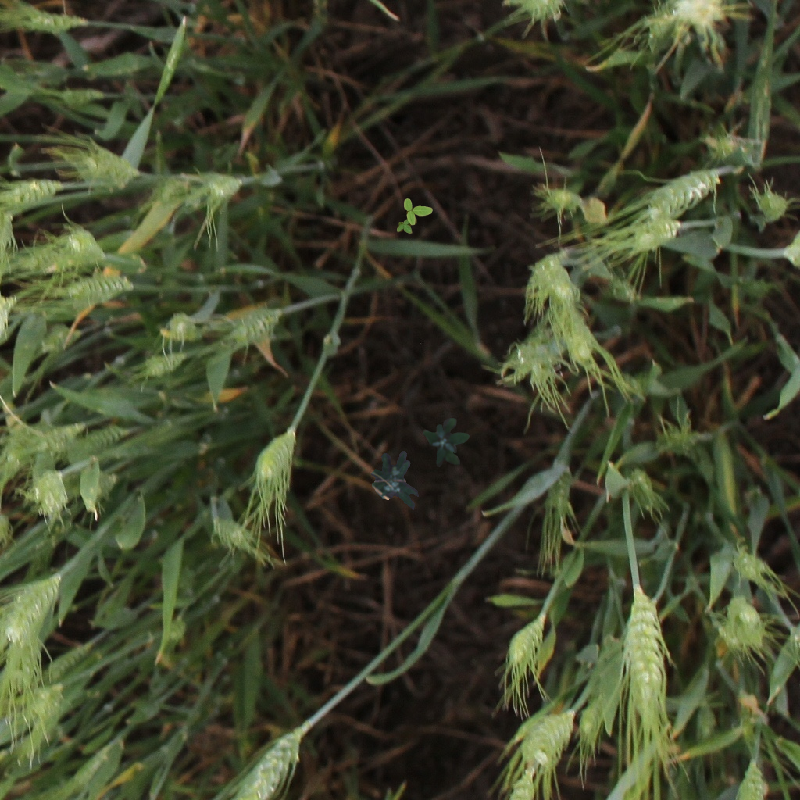spikelet: (529, 262, 599, 369), (511, 704, 579, 795), (619, 588, 670, 706), (226, 726, 305, 799), (1, 572, 62, 643), (643, 165, 721, 219), (20, 683, 65, 756), (1, 234, 81, 275), (718, 593, 767, 654), (1, 1, 86, 35), (512, 326, 559, 386), (59, 271, 132, 307), (75, 148, 139, 188), (504, 612, 547, 671), (18, 420, 84, 458), (224, 306, 281, 349), (254, 427, 296, 485), (211, 515, 260, 557), (1, 177, 61, 211), (185, 172, 242, 207), (630, 213, 681, 252), (29, 468, 69, 517), (624, 466, 662, 513), (645, 1, 681, 50), (79, 424, 129, 455), (42, 646, 93, 676), (730, 545, 770, 583), (672, 1, 725, 27), (534, 184, 577, 215), (738, 761, 771, 800), (39, 323, 78, 355), (141, 351, 186, 377), (160, 311, 197, 342), (755, 189, 788, 222), (515, 1, 566, 21), (1, 293, 13, 350)
weed: (362, 442, 438, 515), (423, 418, 470, 467), (397, 198, 433, 234)
